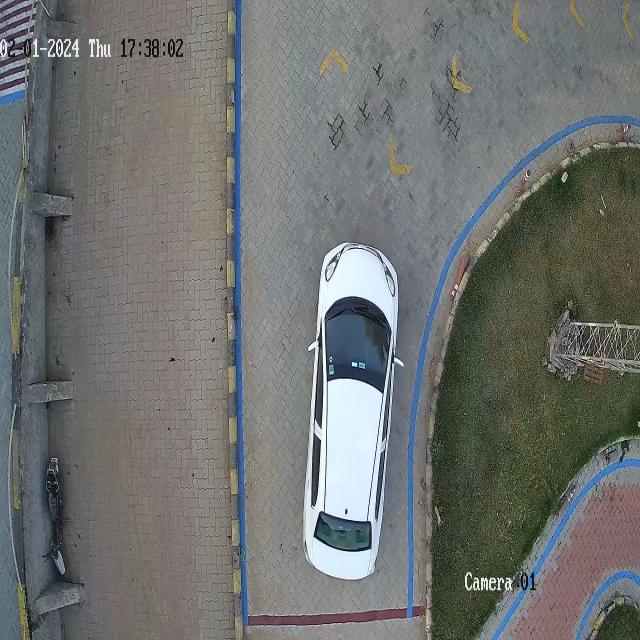car: (306, 243, 398, 578)
